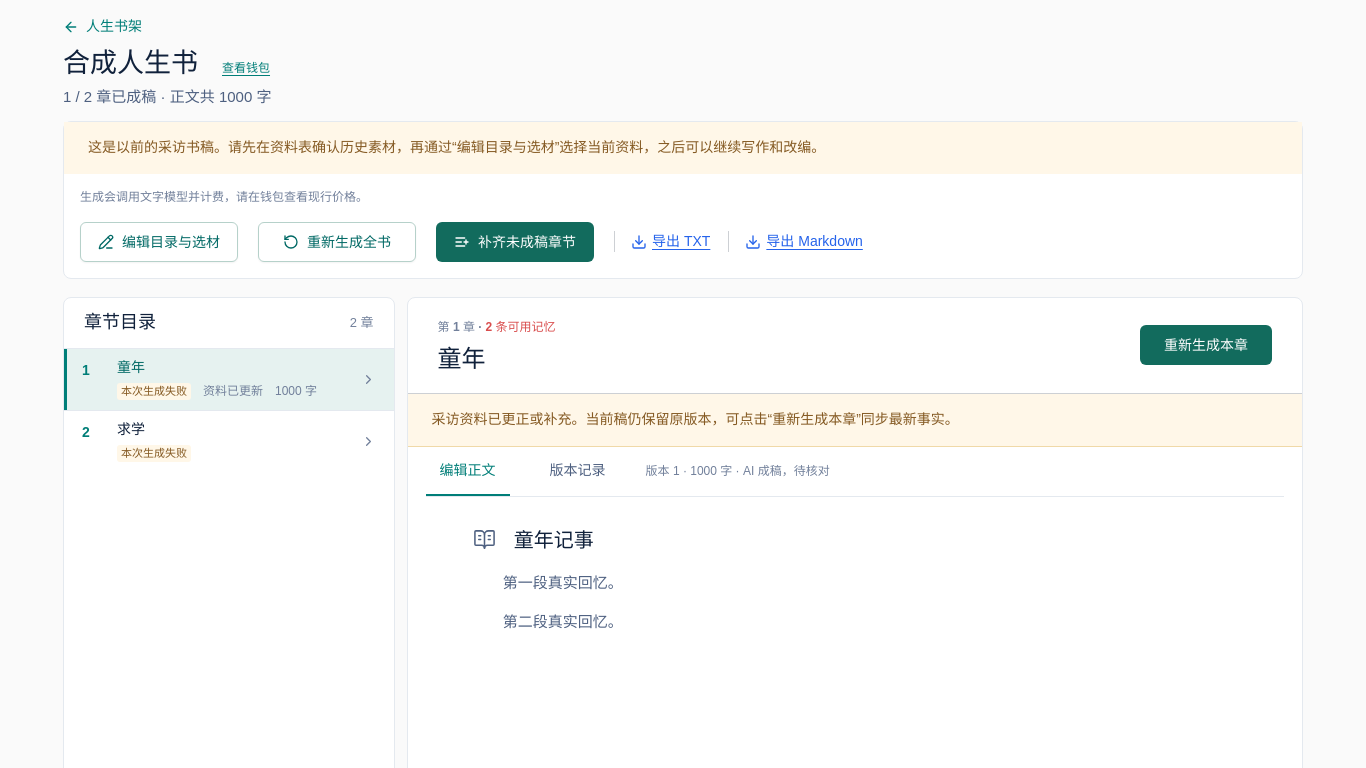
Test: fills only missing drafts and leaves saved chapters for the server to skip
Click the button "补齐未成稿章节".
click(515, 242)  # box [436, 222, 594, 262]
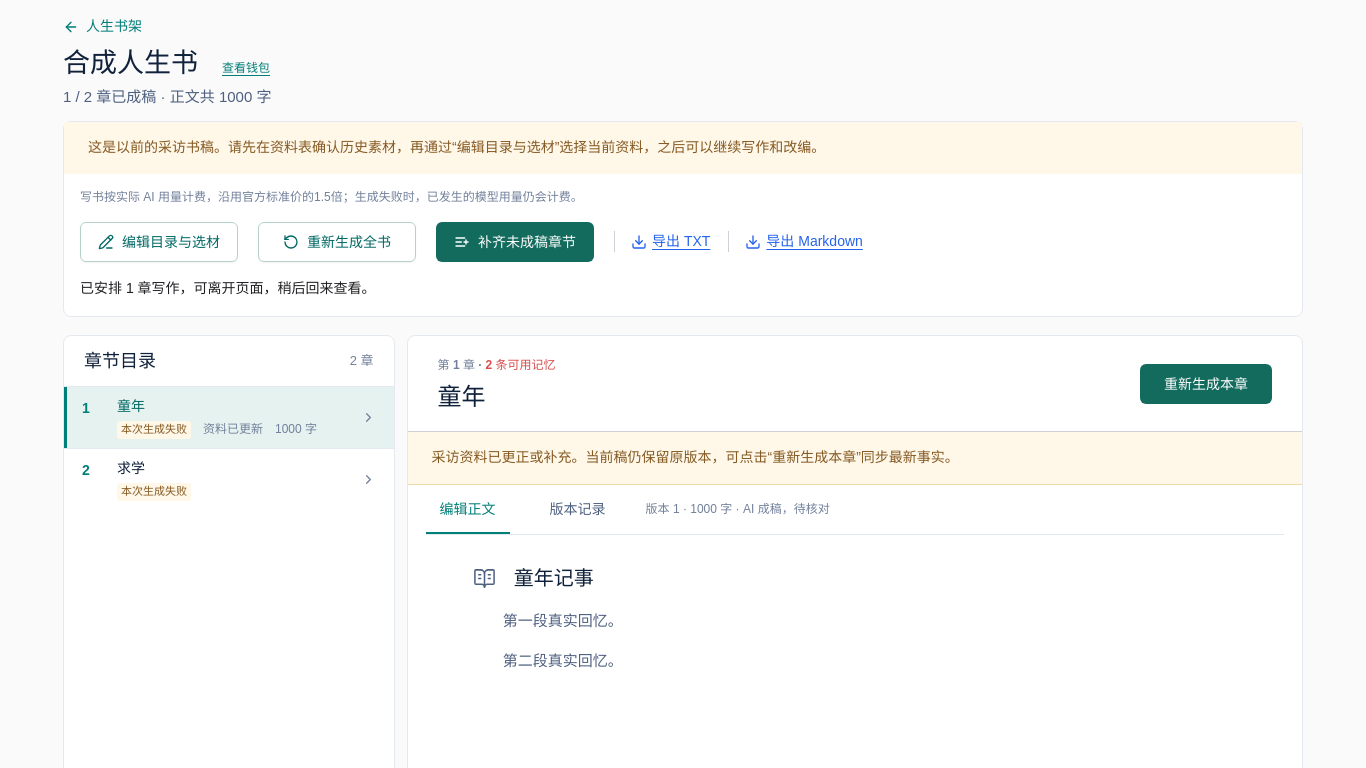
expect the text "第一段真实回忆。" is shown: met, box [503, 612, 623, 629]
expect the text "已安排 1 章写作，可离开页面，稍后回来查看。" is shown: met, box [80, 280, 376, 296]
